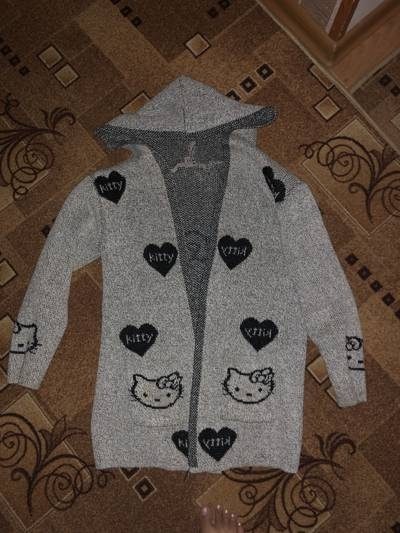Hoodie: (12, 53, 365, 498)
